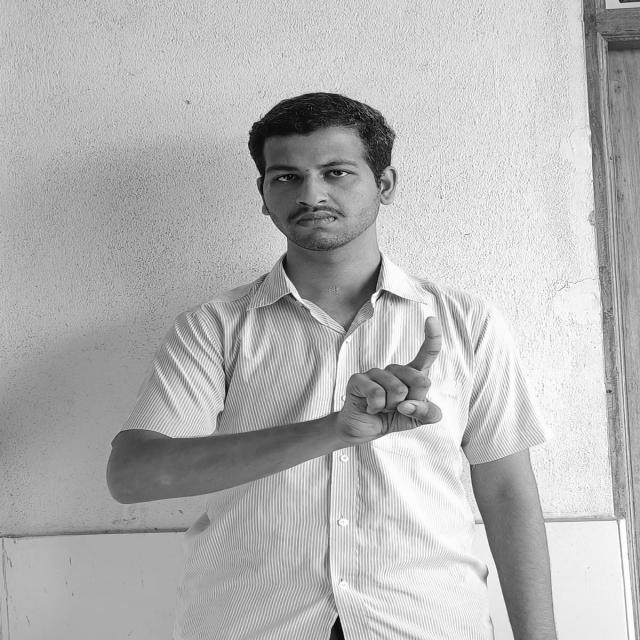Question: (335, 315, 461, 439)
